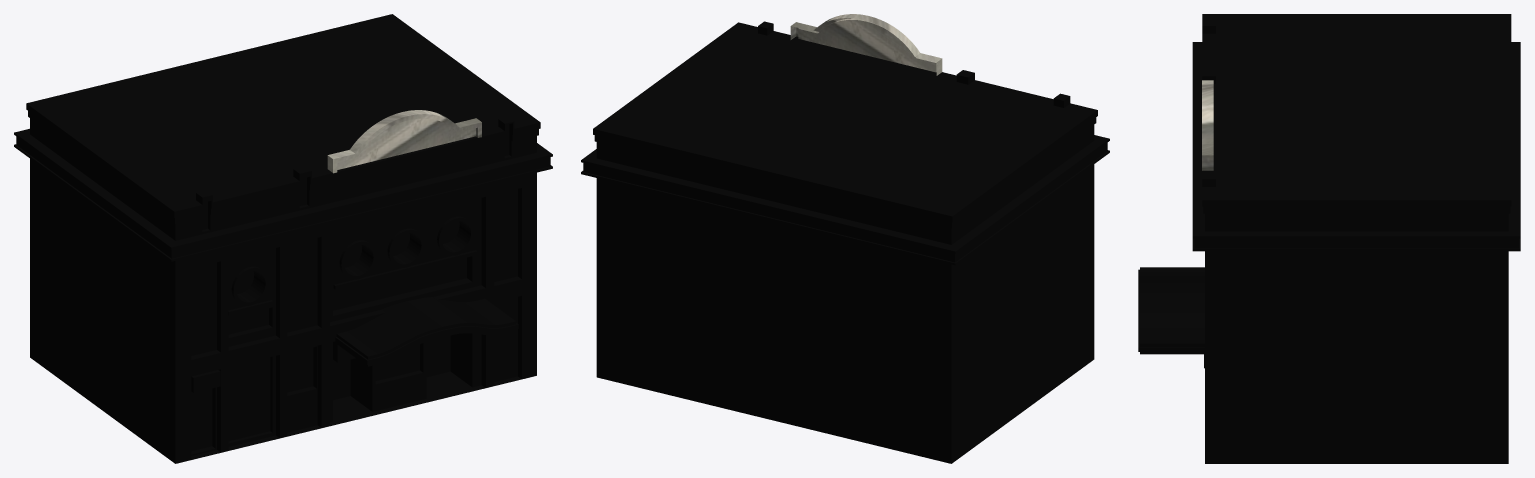
File: theatre.fbx
3 views of the same model, side by side, from view 1: azimuth 30°, elevation 25°; view 2: azimuth 150°, elevation 25°; view 3: azimuth 270°, elevation 25° (orthographic). The views are drawn at different scales.
Visible parts, largest first — view 1: theatre; view 2: theatre; view 3: theatre.
Part boxes in pixels (x1=…): theatre: x1=14, y1=14, x2=552, y2=463; theatre: x1=581, y1=14, x2=1109, y2=463; theatre: x1=1138, y1=14, x2=1520, y2=463.
Size of the model in its own units: 395 by 289 by 328.
2 materials, 1 textured.
